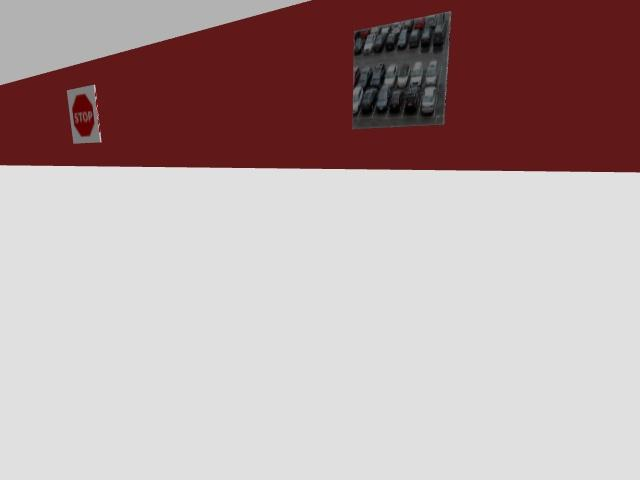stopsign: (68, 86, 100, 142)
vehicle: (421, 87, 436, 114), (376, 85, 391, 111), (404, 86, 419, 112), (361, 88, 377, 112), (370, 63, 385, 88), (409, 62, 423, 86), (389, 90, 404, 111), (383, 64, 397, 86), (357, 67, 371, 89), (397, 64, 410, 87), (426, 60, 437, 86), (353, 86, 363, 114), (363, 34, 376, 55), (373, 33, 386, 51), (433, 24, 444, 45), (409, 29, 421, 48), (397, 29, 408, 49), (385, 32, 397, 50), (421, 28, 431, 47), (354, 37, 364, 54), (353, 66, 360, 87), (425, 15, 436, 27), (413, 17, 424, 29), (402, 19, 413, 29), (380, 25, 391, 35), (359, 29, 369, 39), (436, 13, 444, 25), (370, 26, 380, 34), (391, 22, 400, 30)
